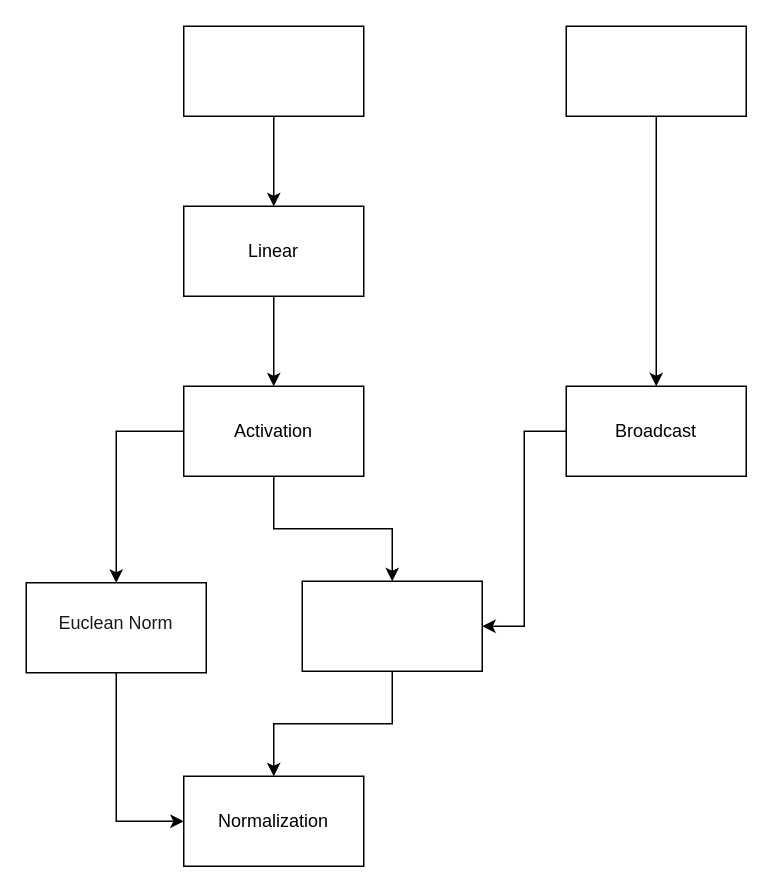
Image size: 773x893. Some labels were removed from this diagram. The centre of each missing label's shape, as x and y in pixels:
"DotProduct" belongs at point 391,625.
"Item" belongs at point 655,70.
"User Behavior Sequence" belongs at point 273,70.
